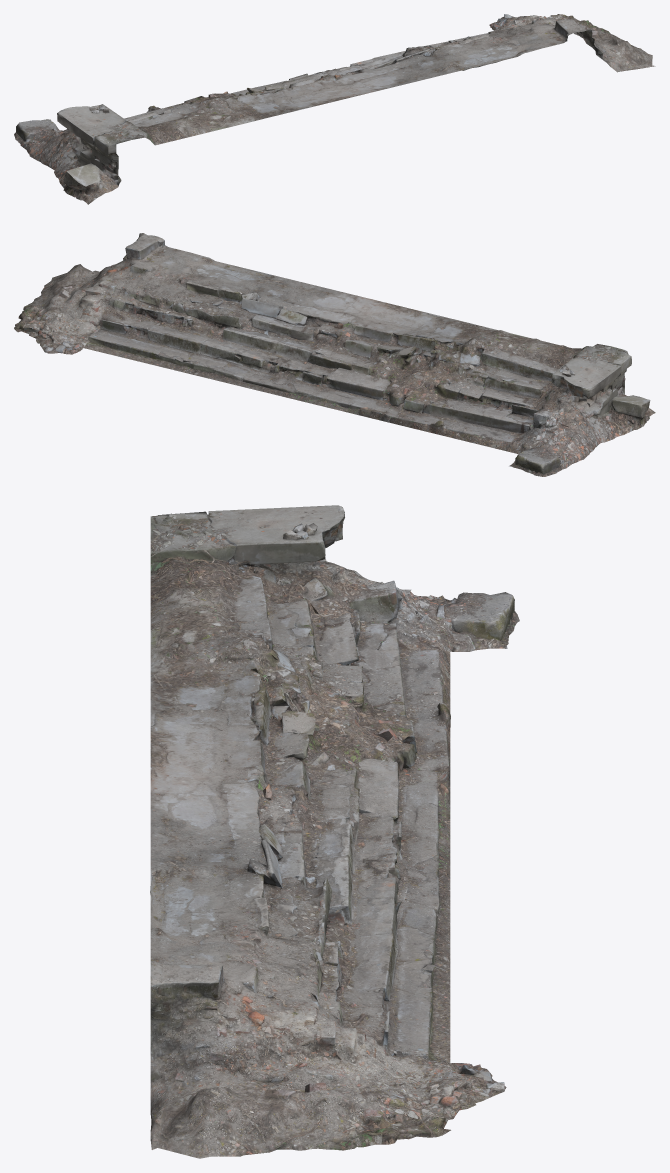
File: SM_Stairs_01_01.fbx
3 renders of one model, top to bottom at view 1: azimuth 30°, elevation 25°; view 2: azimuth 150°, elevation 25°; view 3: azimuth 270°, elevation 25°, orthographic. The views are drawn at different scales.
Visible parts, largest first — view 1: sm_Stairs_01_01_LOD0; view 2: sm_Stairs_01_01_LOD0; view 3: sm_Stairs_01_01_LOD0.
Boxes of the visible parts, x1,y1,x2,y2 form: sm_Stairs_01_01_LOD0: (14,14,655,204); sm_Stairs_01_01_LOD0: (14,233,655,476); sm_Stairs_01_01_LOD0: (150,505,519,1158).
Size of the model in its own units: 333 by 1211 by 116.
